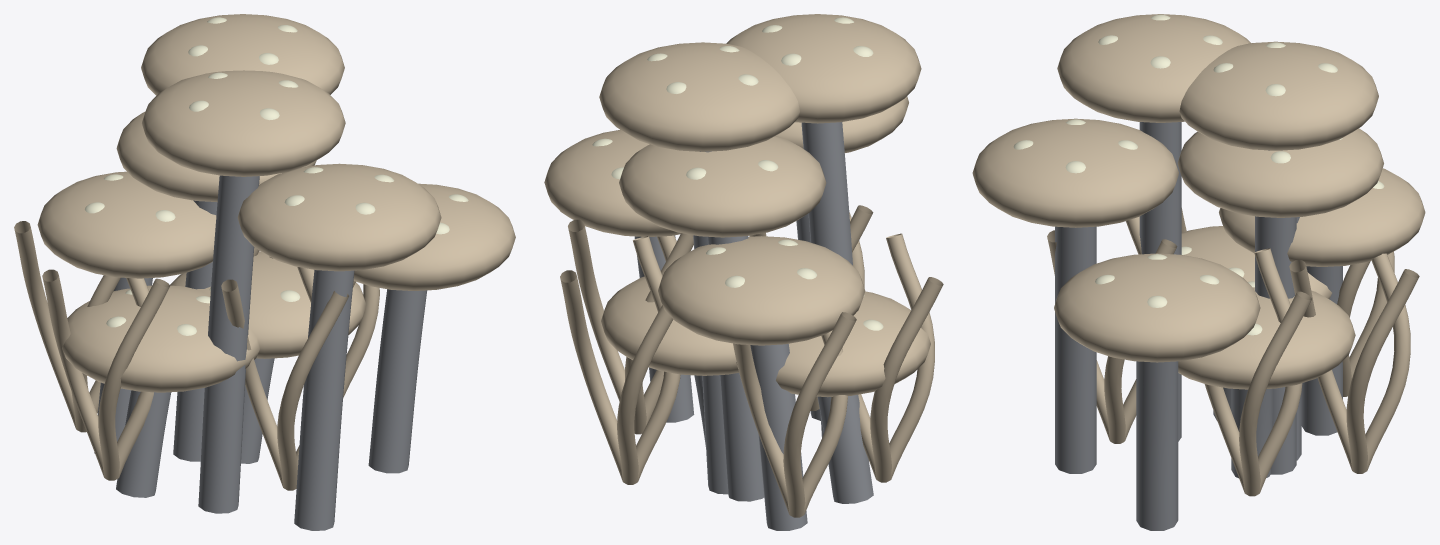
File: bio_spore_fungus_14_near.glb
3 views of the same model, side by side, from view 1: azimuth 30°, elevation 25°; view 2: azimuth 150°, elevation 25°; view 3: azimuth 270°, elevation 25° (orthographic).
Parts seen in each view (by area): view 1: Thick umbrella cap.002, Thick umbrella cap.007, Thick umbrella cap.001, Thick umbrella cap.004, Curved stipe.007, Thick umbrella cap.003, Curved stipe.002, Thick umbrella cap.005, Spiral filament.012, Curved stipe.005, Spiral filament.006, Thick umbrella cap (+10 smaller); view 2: Thick umbrella cap.001, Thick umbrella cap.003, Thick umbrella cap.006, Thick umbrella cap.007, Spiral filament.009, Spiral filament.003, Spiral filament.012, Thick umbrella cap.004, Thick umbrella cap.005, Thick umbrella cap, Spiral filament, Curved stipe.007 (+10 smaller); view 3: Thick umbrella cap.005, Thick umbrella cap.002, Thick umbrella cap.003, Thick umbrella cap.007, Thick umbrella cap.006, Thick umbrella cap.001, Spiral filament.009, Thick umbrella cap, Spiral filament, Curved stipe.002, Curved stipe.005, Curved stipe.003 (+10 smaller).
Boxes of the visible parts, x1=… form: Thick umbrella cap.002: x1=237, y1=163, x2=441, y2=271; Thick umbrella cap.007: x1=142, y1=70, x2=345, y2=176; Thick umbrella cap.001: x1=37, y1=171, x2=216, y2=278; Thick umbrella cap.004: x1=62, y1=285, x2=260, y2=392; Curved stipe.007: x1=198, y1=175, x2=259, y2=513; Thick umbrella cap.003: x1=141, y1=14, x2=344, y2=95; Curved stipe.002: x1=294, y1=270, x2=354, y2=530; Thick umbrella cap.005: x1=353, y1=183, x2=515, y2=290; Spiral filament.012: x1=42, y1=269, x2=169, y2=480; Curved stipe.005: x1=368, y1=289, x2=427, y2=473; Spiral filament.006: x1=221, y1=267, x2=348, y2=490; Thick umbrella cap: x1=170, y1=251, x2=366, y2=358; Thick umbrella cap.001: x1=658, y1=236, x2=865, y2=345; Thick umbrella cap.003: x1=599, y1=42, x2=799, y2=151; Thick umbrella cap.006: x1=619, y1=136, x2=826, y2=237; Thick umbrella cap.007: x1=726, y1=14, x2=921, y2=123; Spiral filament.009: x1=560, y1=236, x2=680, y2=484; Spiral filament.003: x1=733, y1=312, x2=856, y2=517; Spiral filament.012: x1=858, y1=233, x2=943, y2=482; Thick umbrella cap.004: x1=736, y1=291, x2=930, y2=397; Thick umbrella cap.005: x1=544, y1=130, x2=680, y2=236; Thick umbrella cap: x1=601, y1=276, x2=738, y2=375; Spiral filament: x1=568, y1=219, x2=693, y2=434; Curved stipe.007: x1=801, y1=122, x2=852, y2=437; Thick umbrella cap.005: x1=1054, y1=253, x2=1260, y2=362; Thick umbrella cap.002: x1=972, y1=118, x2=1178, y2=227; Thick umbrella cap.003: x1=1179, y1=41, x2=1378, y2=150; Thick umbrella cap.007: x1=1057, y1=14, x2=1250, y2=122; Thick umbrella cap.006: x1=1177, y1=128, x2=1383, y2=217; Thick umbrella cap.001: x1=1219, y1=168, x2=1425, y2=266; Spiral filament.009: x1=1289, y1=253, x2=1419, y2=473; Thick umbrella cap: x1=1178, y1=287, x2=1355, y2=389; Spiral filament: x1=1204, y1=248, x2=1311, y2=496; Curved stipe.002: x1=1055, y1=226, x2=1096, y2=473; Curved stipe.005: x1=1136, y1=361, x2=1178, y2=530; Curved stipe.003: x1=1255, y1=150, x2=1296, y2=474.
Bounding box in the file's own units: 1.99 × 1.87 × 1.84.
